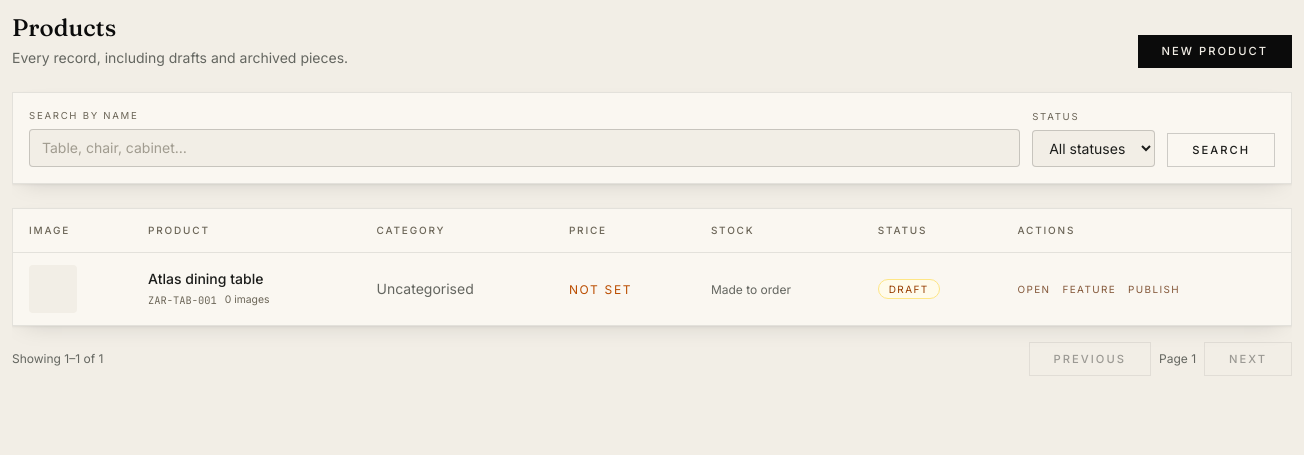
Test: AdminProductsPage › surfaces the API message when a write is forbidden
Expected: the link "Atlas dining table" is shown, [148,270,263,287]
Click the button "Publish". click: (1154, 289)
box: [1128,282,1180,296]
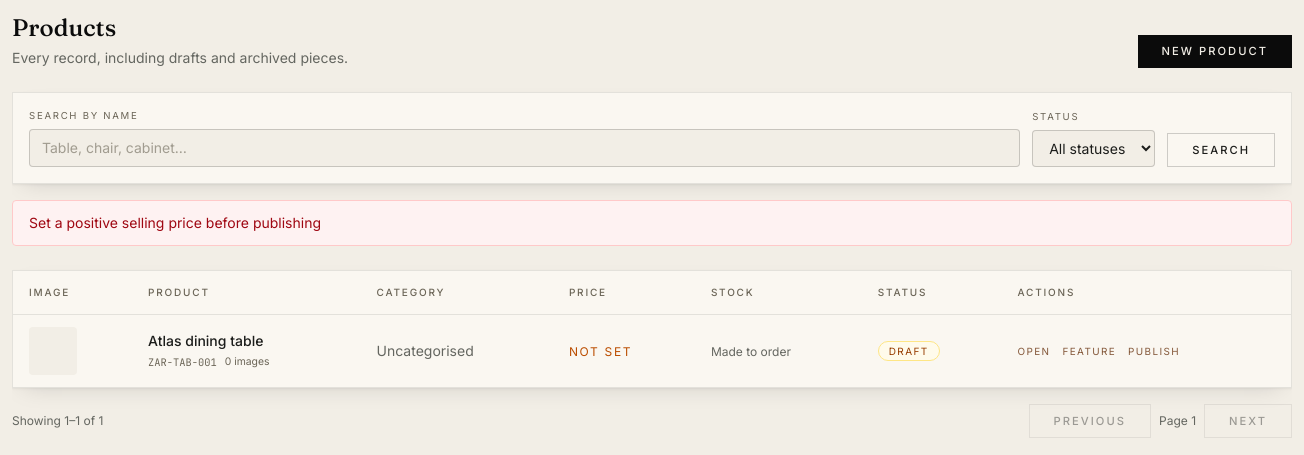
Expected: the message with test id "form-error" reads "Set a positive selling price before publishing", [29,214,321,231]
